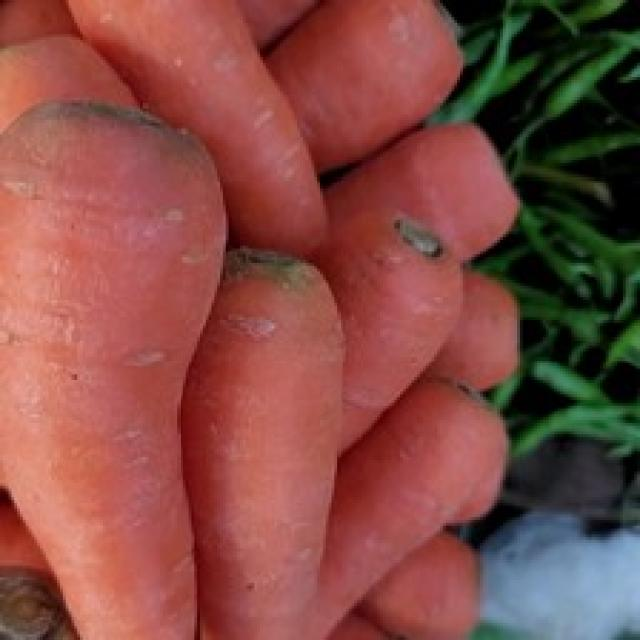Fresh_Carrot: (0, 97, 203, 640), (176, 250, 349, 640)
